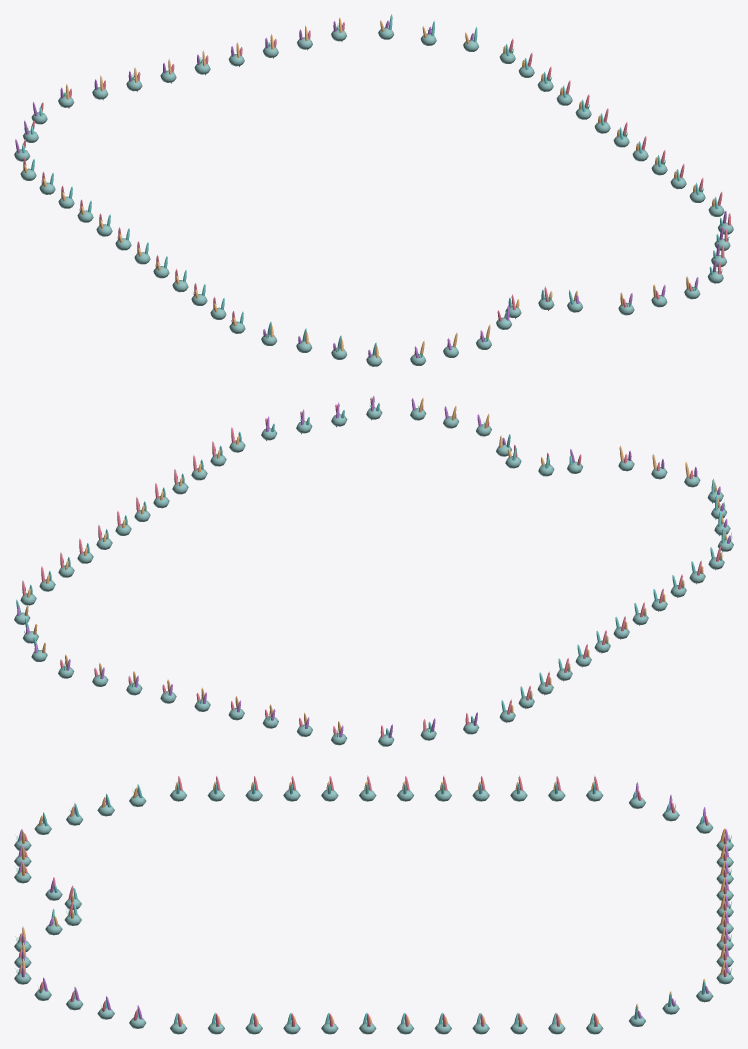
File: reef-29-C9fFduJO.glb
The picture shows the model from 3 angles, top to bottom: view 1: azimuth 30°, elevation 25°; view 2: azimuth 150°, elevation 25°; view 3: azimuth 270°, elevation 25°; orthographic projection.
Parts seen in each view (by area): view 1: ReefRock, Coral2, Coral0, Coral3, Coral1; view 2: ReefRock, Coral0, Coral2, Coral3, Coral1; view 3: ReefRock, Coral0, Coral3, Coral2, Coral1.
Part boxes in pixels (x1=…): ReefRock: x1=14, y1=27, x2=733, y2=366; Coral2: x1=24, y1=17, x2=714, y2=358; Coral0: x1=23, y1=22, x2=730, y2=354; Coral3: x1=22, y1=14, x2=723, y2=355; Coral1: x1=15, y1=20, x2=726, y2=358; ReefRock: x1=14, y1=407, x2=733, y2=746; Coral0: x1=22, y1=397, x2=720, y2=737; Coral2: x1=24, y1=397, x2=727, y2=733; Coral3: x1=16, y1=403, x2=724, y2=735; Coral1: x1=17, y1=395, x2=730, y2=738; ReefRock: x1=14, y1=790, x2=733, y2=1034; Coral0: x1=18, y1=775, x2=726, y2=1034; Coral3: x1=42, y1=783, x2=705, y2=1024; Coral2: x1=21, y1=781, x2=725, y2=1023; Coral1: x1=18, y1=782, x2=728, y2=1027.
Bounding box in the file's own units: 45 × 2.06 × 57.1.
